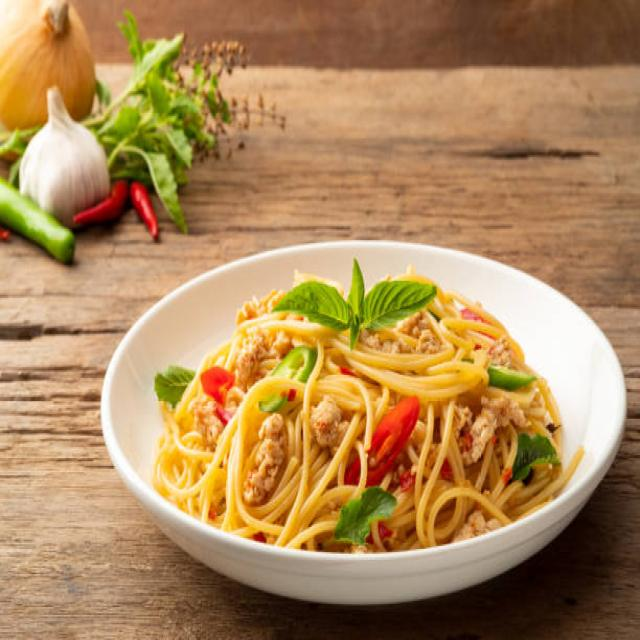carb: (154, 290, 581, 552)
meat: (244, 393, 301, 507), (226, 331, 301, 414), (454, 395, 531, 467), (361, 314, 446, 354), (311, 395, 351, 454), (191, 393, 224, 450), (455, 511, 499, 540), (490, 339, 520, 368), (392, 464, 417, 493), (240, 304, 272, 323), (432, 417, 442, 450)
vegetable: (274, 260, 439, 351), (336, 397, 421, 544), (507, 434, 561, 484), (204, 369, 235, 425), (274, 350, 320, 383), (157, 369, 194, 405), (489, 365, 537, 392), (260, 395, 291, 414)
